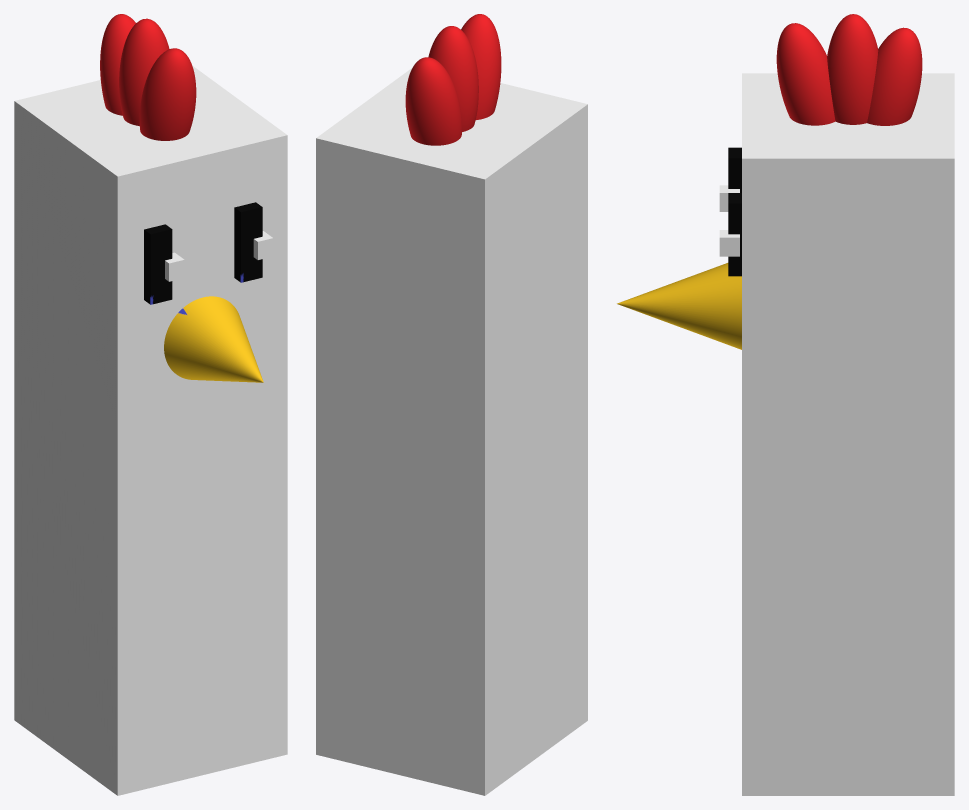
The model's file is White_Hen.fbx.
3 renders of one model, left to right at view 1: azimuth 30°, elevation 25°; view 2: azimuth 150°, elevation 25°; view 3: azimuth 270°, elevation 25°, orthographic. The views are drawn at different scales.
Parts seen in each view (by area): view 1: root (×3), node_id211 (×3), node_id199, node_id202; view 2: root (×2), node_id211 (×3); view 3: root (×3), node_id211 (×3), node_id202, node_id199.
Part boxes in pixels (bbox=[...]): root (×3): bbox=[14, 65, 287, 795]; node_id211 (×3): bbox=[100, 14, 196, 140]; node_id199: bbox=[144, 224, 172, 304]; node_id202: bbox=[234, 202, 262, 282]; root (×2): bbox=[316, 68, 587, 795]; node_id211 (×3): bbox=[405, 14, 501, 145]; root (×3): bbox=[617, 73, 954, 795]; node_id211 (×3): bbox=[776, 14, 922, 125]; node_id202: bbox=[728, 193, 741, 276]; node_id199: bbox=[728, 147, 741, 192].
Size of the model in its own units: 0.0737 by 0.2969 by 0.1234.
8 materials, 8 textured.
